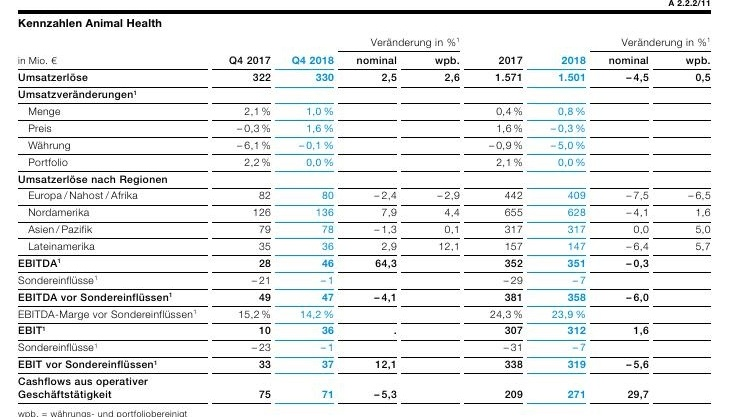table: (0, 0, 729, 417)
